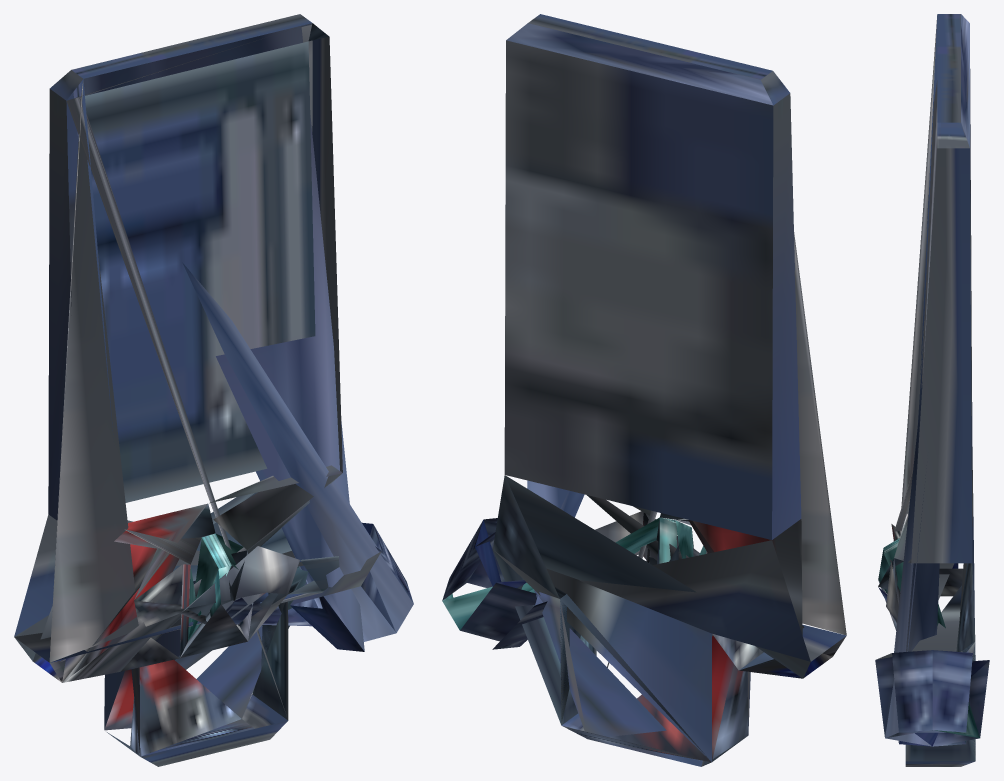
The model's file is eqp_tool_datapad_s02_l1.fbx.
3 views of the same model, side by side, from view 1: azimuth 30°, elevation 25°; view 2: azimuth 150°, elevation 25°; view 3: azimuth 270°, elevation 25° (orthographic). The views are drawn at different scales.
Visible parts, largest first — view 1: mesh_node; view 2: mesh_node; view 3: mesh_node.
Part boxes in pixels (x1,y1,x2,y2): mesh_node: (14, 14, 413, 766); mesh_node: (442, 14, 846, 766); mesh_node: (875, 14, 989, 766).
Size of the model in its own units: 0.1123 by 0.198 by 0.0306.
